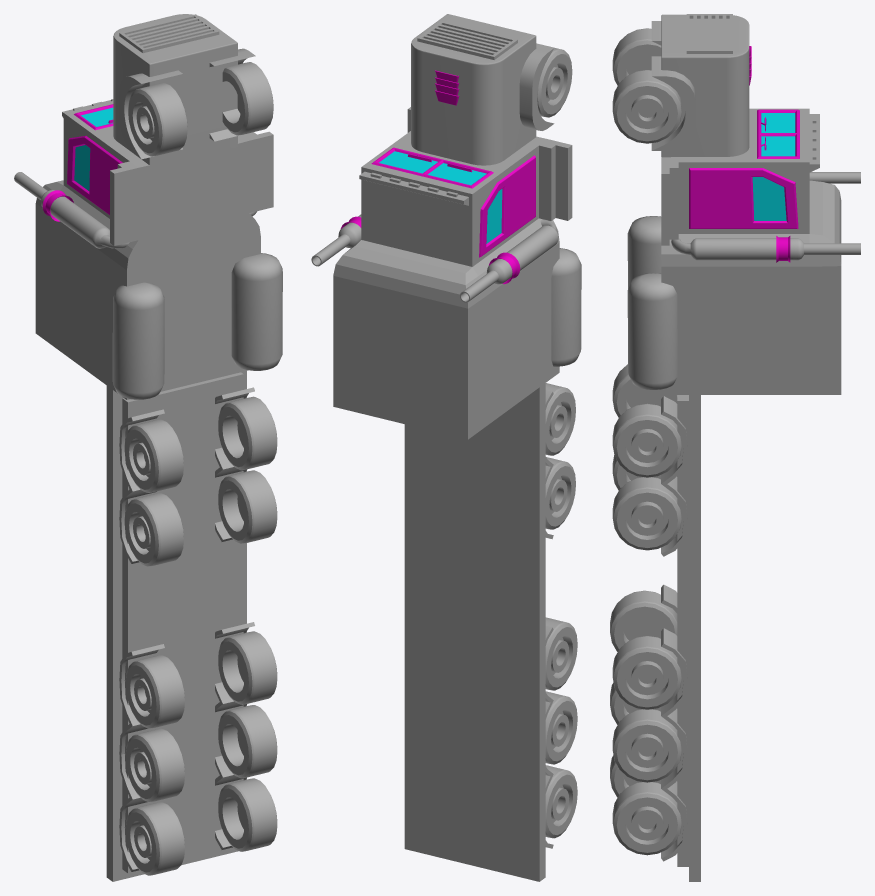
Rendered from Truck High-Poly Final.fbx.
3 renders of one model, left to right at view 1: azimuth 30°, elevation 25°; view 2: azimuth 150°, elevation 25°; view 3: azimuth 270°, elevation 25°, orthographic.
Visible parts, largest first — view 1: Truck_Body_high, Truck_Tires_high, Truck_Fueltanks_high, Truck_WheelArches_high, Truck_Exhausts_high, Truck_Body_high_Float3, Truck_Body_high_Float4; view 2: Truck_Body_high, Truck_Tires_high, Truck_Fueltanks_high, Truck_Exhausts_high, Truck_Body_high_Float3, Truck_WheelArches_high, Truck_Body_high_Float5, Truck_Body_high_Float6, Truck_Body_high_Float7, Truck_Body_high_Float4; view 3: Truck_Body_high, Truck_Tires_high, Truck_Fueltanks_high, Truck_WheelArches_high, Truck_Body_high_Float3, Truck_Exhausts_high, Truck_Body_high_Float5, Truck_Body_high_Float4, Truck_Body_high_Float6.
Boxes of the visible parts, x1,y1,x2,y2 form: Truck_Body_high: [35, 14, 273, 881]; Truck_Tires_high: [124, 62, 277, 875]; Truck_Fueltanks_high: [112, 253, 282, 399]; Truck_WheelArches_high: [119, 48, 255, 871]; Truck_Exhausts_high: [14, 172, 256, 248]; Truck_Body_high_Float3: [67, 135, 122, 214]; Truck_Body_high_Float4: [74, 145, 90, 190]; Truck_Body_high: [333, 14, 572, 881]; Truck_Tires_high: [537, 48, 577, 838]; Truck_Fueltanks_high: [551, 248, 581, 366]; Truck_Exhausts_high: [311, 214, 558, 302]; Truck_Body_high_Float3: [479, 155, 535, 257]; Truck_WheelArches_high: [519, 43, 554, 848]; Truck_Body_high_Float5: [379, 151, 486, 185]; Truck_Body_high_Float6: [371, 147, 493, 188]; Truck_Body_high_Float7: [435, 70, 458, 105]; Truck_Body_high_Float4: [486, 189, 502, 243]; Truck_Body_high: [661, 14, 841, 881]; Truck_Tires_high: [610, 28, 681, 855]; Truck_Fueltanks_high: [627, 216, 677, 389]; Truck_WheelArches_high: [651, 21, 695, 861]; Truck_Body_high_Float3: [689, 168, 798, 228]; Truck_Exhausts_high: [671, 172, 860, 260]; Truck_Body_high_Float5: [761, 113, 795, 156]; Truck_Body_high_Float4: [752, 177, 786, 220]; Truck_Body_high_Float6: [757, 109, 799, 158].
Bounding box in the file's own units: 198 × 907 × 252.
